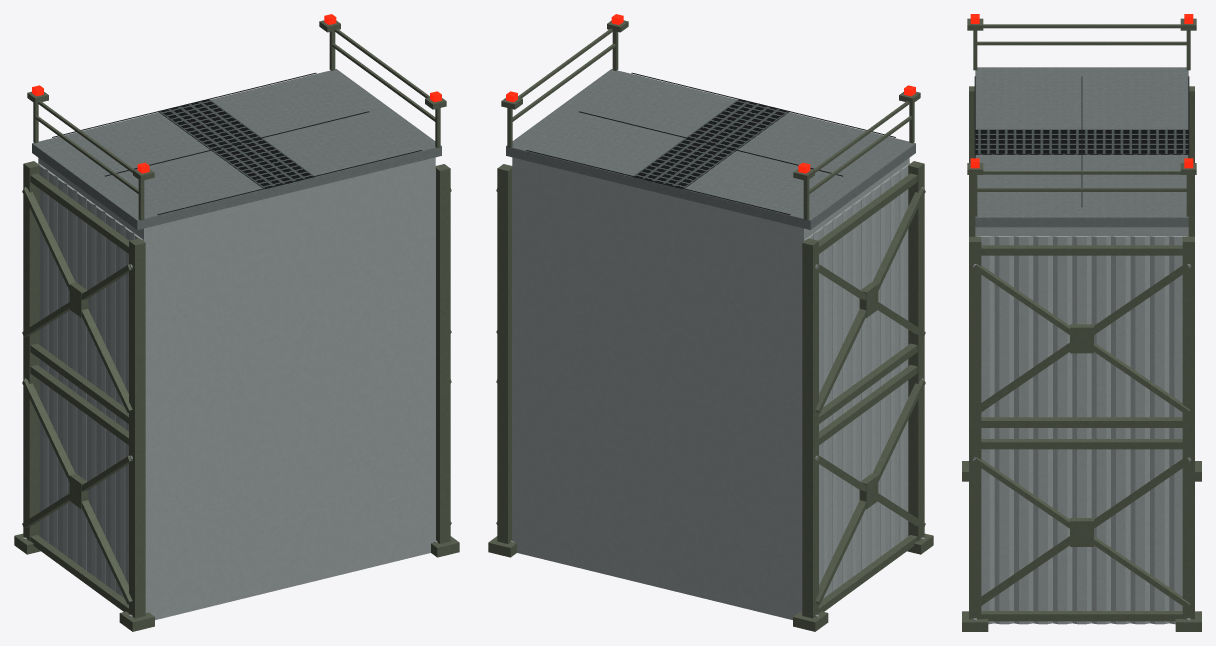
Rendered from half-bay.glb.
The picture shows the model from 3 angles, left to right: view 1: azimuth 30°, elevation 25°; view 2: azimuth 150°, elevation 25°; view 3: azimuth 270°, elevation 25°; orthographic projection.
Visible parts, largest first — view 1: half-bay-lod0-base0, half-bay-lod0-floor0, half-bay-lod0-roof0; view 2: half-bay-lod0-base0, half-bay-lod0-floor0, half-bay-lod0-roof0; view 3: half-bay-lod0-floor0, half-bay-lod0-base0, half-bay-lod0-roof0.
Boxes of the visible parts, x1,y1,x2,y2 form: half-bay-lod0-base0: [14, 355, 459, 631]; half-bay-lod0-floor0: [22, 161, 451, 436]; half-bay-lod0-roof0: [27, 14, 446, 239]; half-bay-lod0-base0: [488, 355, 933, 631]; half-bay-lod0-floor0: [496, 161, 925, 436]; half-bay-lod0-roof0: [501, 14, 920, 239]; half-bay-lod0-floor0: [969, 86, 1194, 435]; half-bay-lod0-base0: [962, 429, 1201, 631]; half-bay-lod0-roof0: [967, 14, 1196, 235].
Size of what is drawn, in the model's own units: 32.2 by 43.07 by 20.2.
Materials: 7 (7 with a texture image).
